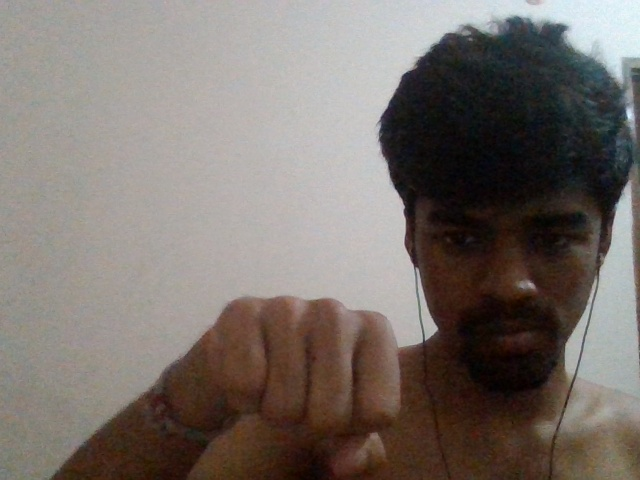Yes: (205, 287, 401, 480)
